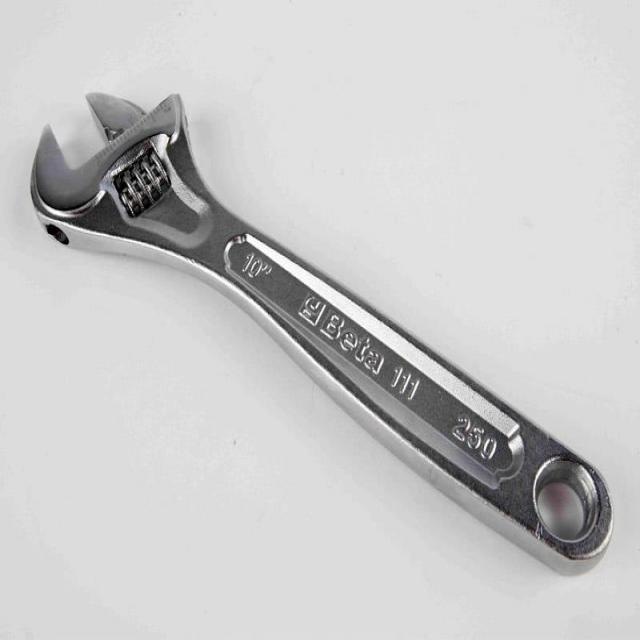wrench: (29, 84, 616, 580)
